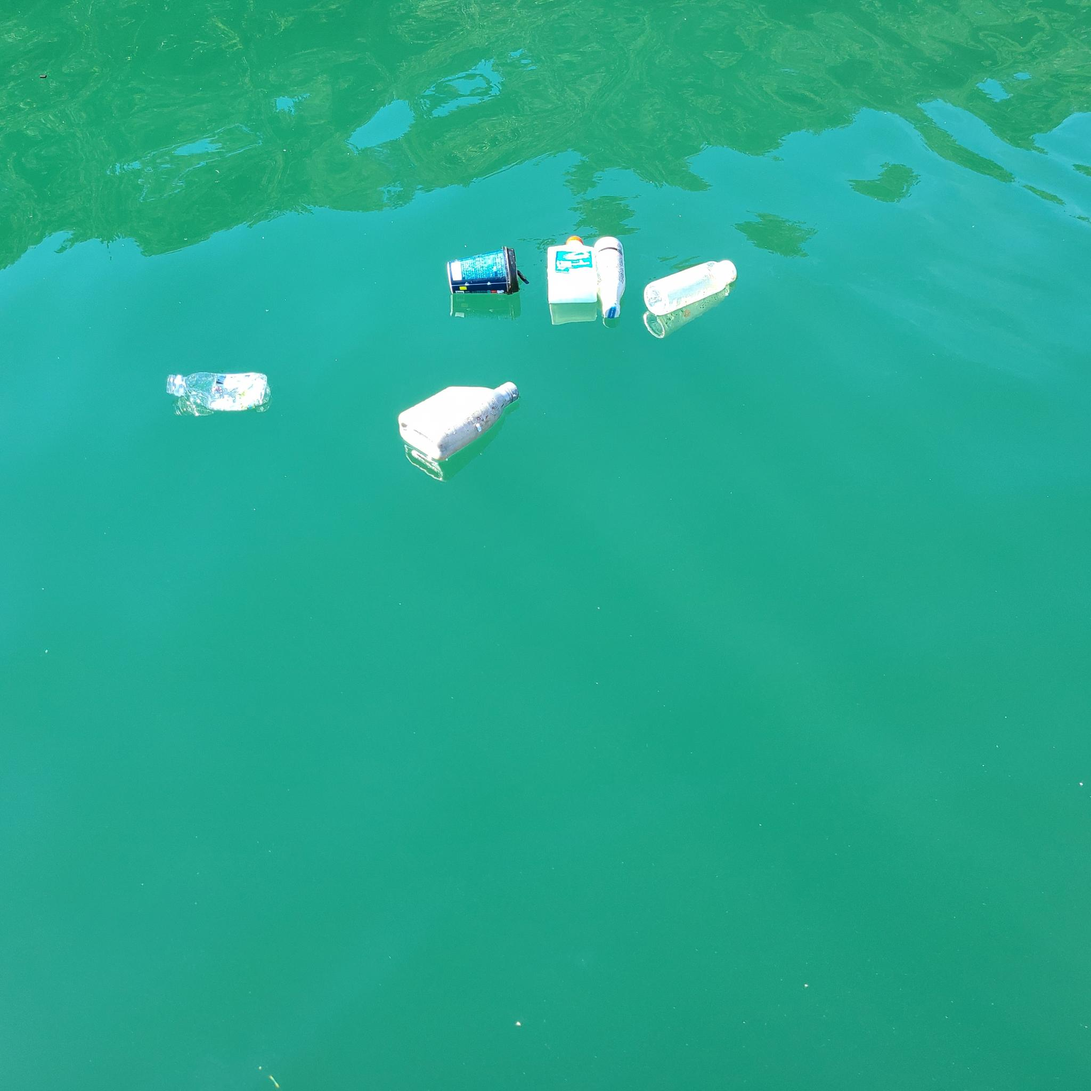sampah_terapung: (398, 382, 521, 461), (644, 261, 738, 317), (166, 372, 271, 412), (448, 247, 520, 296), (547, 237, 599, 304), (595, 237, 625, 320)
